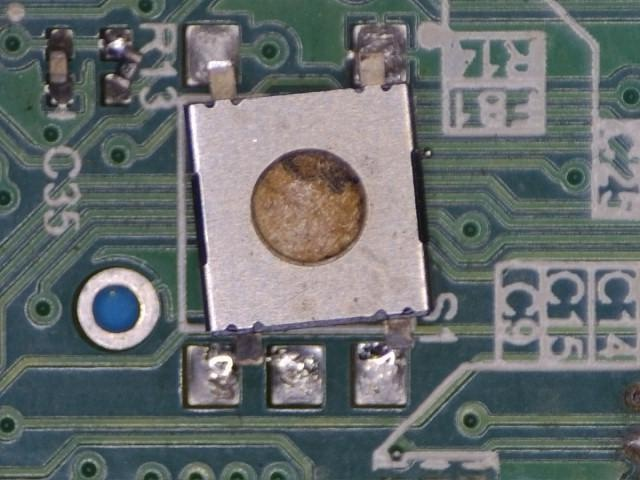pcb_defect: (183, 21, 433, 408), (183, 333, 327, 409), (100, 27, 144, 105)
